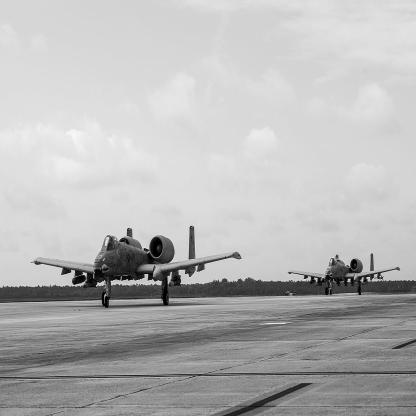A10: (32, 227, 243, 310), (288, 254, 402, 296)
